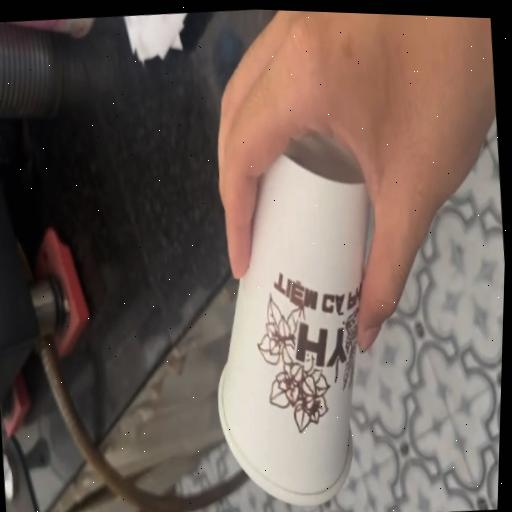Ly_giay: (219, 134, 369, 504)
